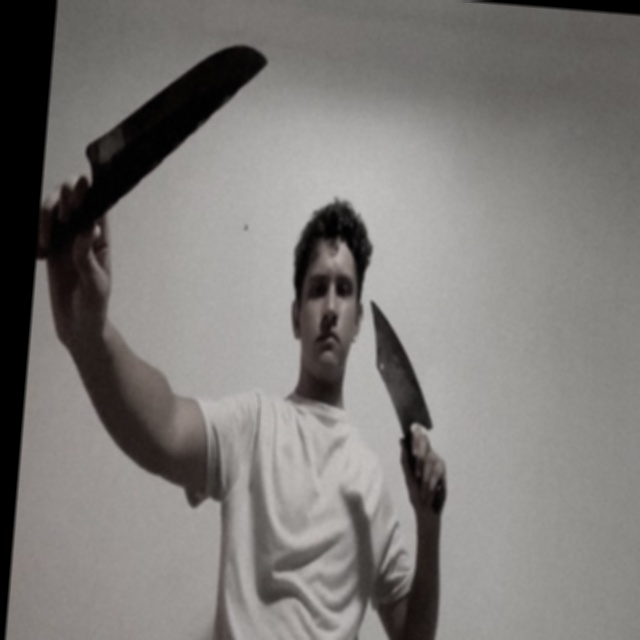Sharp-Object: (81, 33, 268, 181), (361, 299, 442, 429)
